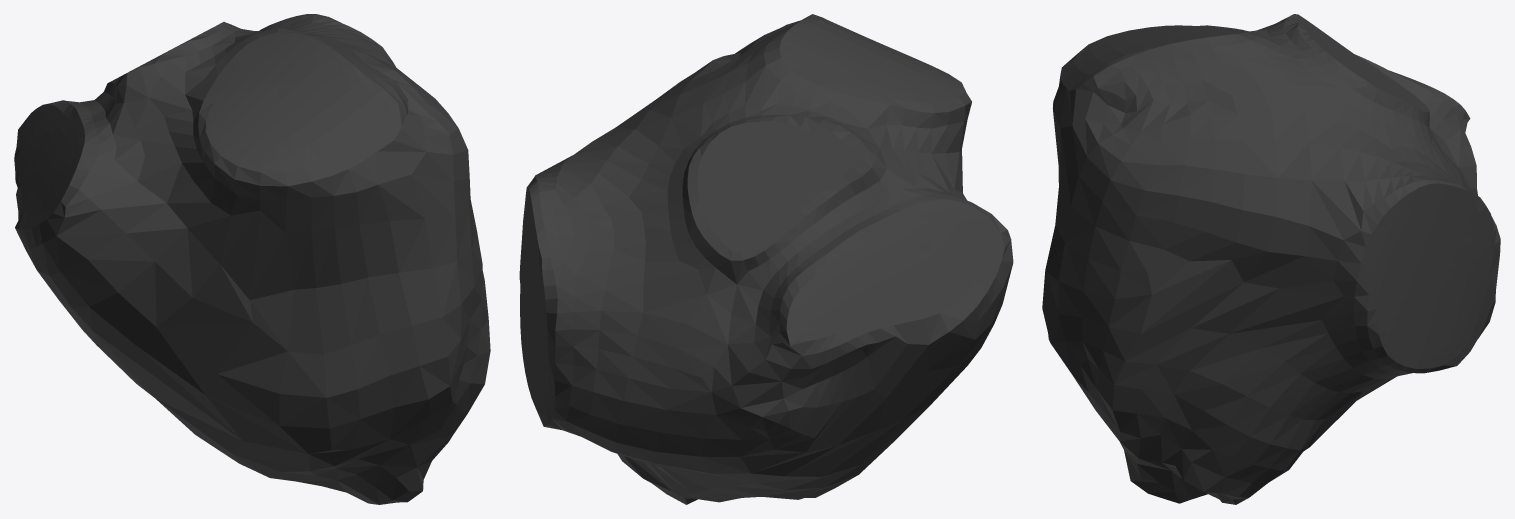
File: L_sided_ATRIA.glb
3 renders of one model, left to right at view 1: azimuth 30°, elevation 25°; view 2: azimuth 150°, elevation 25°; view 3: azimuth 270°, elevation 25°, orthographic. The views are drawn at different scales.
Parts seen in each view (by area): view 1: L_sided_ATRIA; view 2: L_sided_ATRIA; view 3: L_sided_ATRIA.
Part boxes in pixels (x1,y1,x2,y2): L_sided_ATRIA: (14, 14, 490, 504); L_sided_ATRIA: (519, 14, 1013, 504); L_sided_ATRIA: (1042, 14, 1500, 504).
Size of the model in its own units: 4.78 by 5.18 by 4.92.
Materials: 1 (1 with a texture image).
